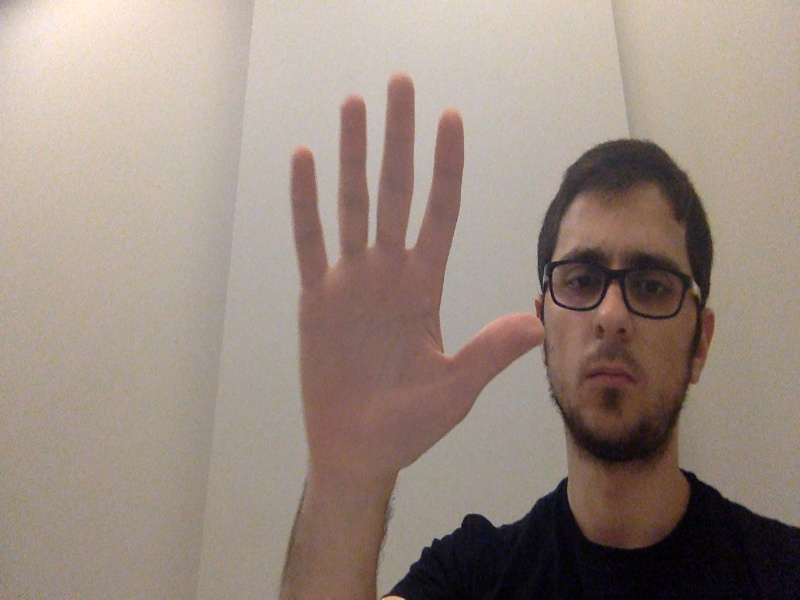5-hand: (282, 74, 549, 470)
